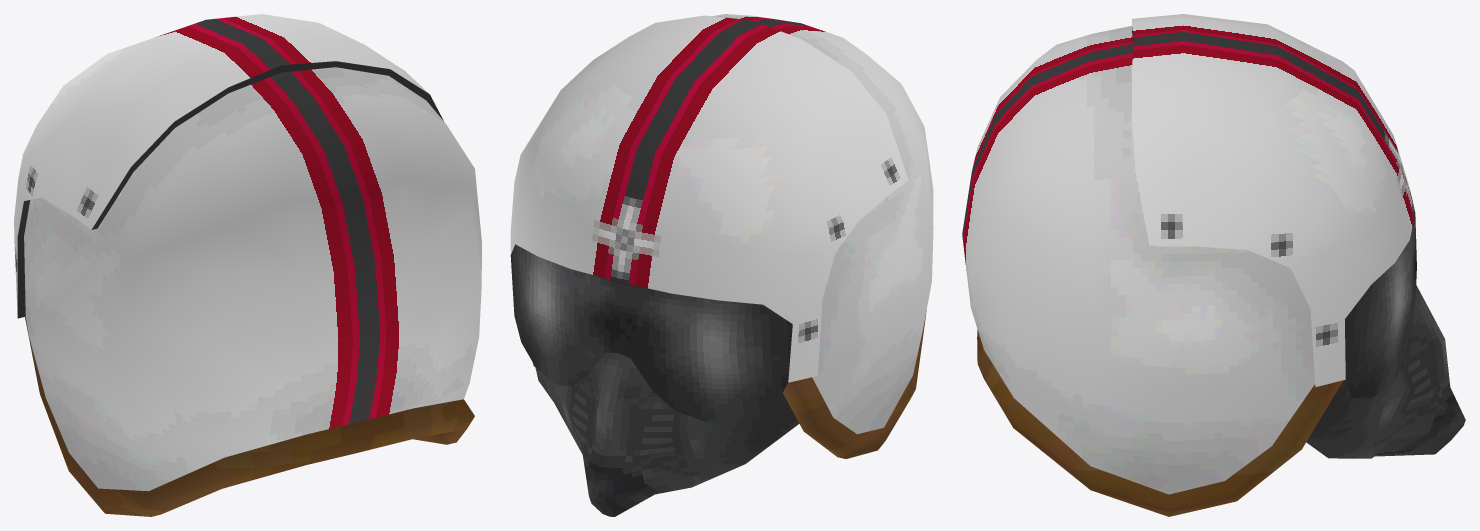
File: ps2_save-icons_pilotninarou2.glb
3 renders of one model, left to right at view 1: azimuth 30°, elevation 25°; view 2: azimuth 150°, elevation 25°; view 3: azimuth 270°, elevation 25°, orthographic. The views are drawn at different scales.
Visible parts, largest first — view 1: helmet.ico; view 2: helmet.ico; view 3: helmet.ico.
Boxes of the visible parts, x1,y1,x2,y2 form: helmet.ico: (14,14,481,516); helmet.ico: (510,14,933,516); helmet.ico: (962,14,1465,516).
Size of the model in its own units: 3.66 by 3.96 by 4.32.
Materials: 1 (1 with a texture image).
